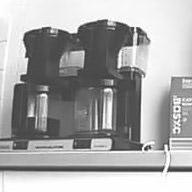not empty coffee: (9, 81, 68, 140)
